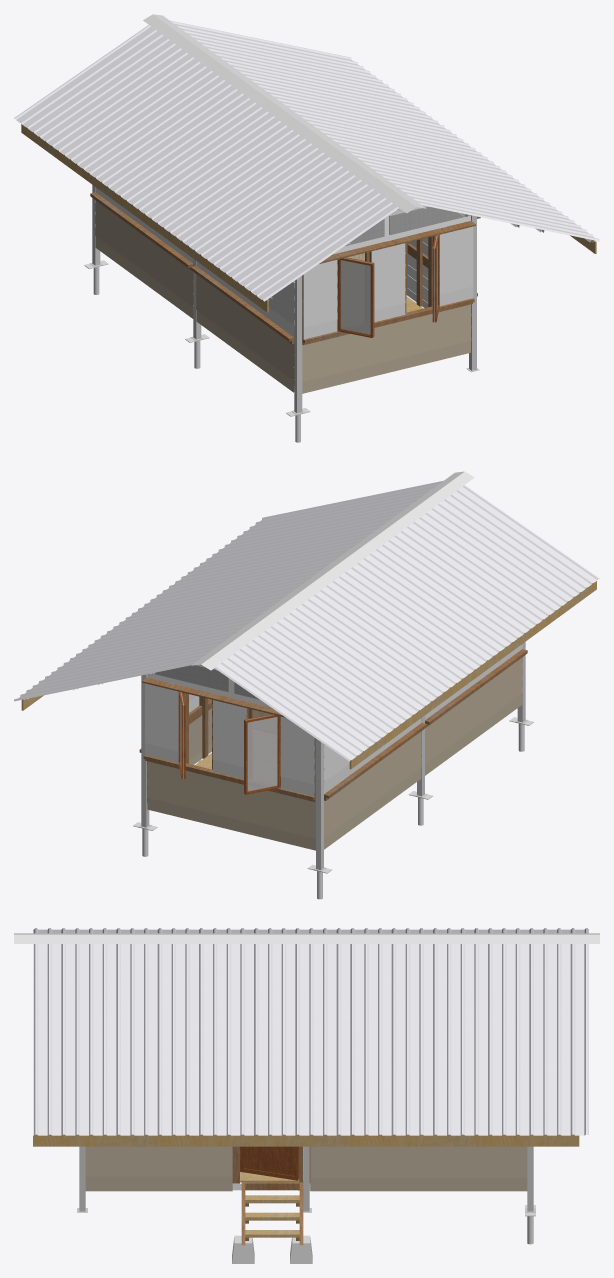
Rendered from 2 Module - Brown (centered).glb.
3 renders of one model, top to bottom at view 1: azimuth 30°, elevation 25°; view 2: azimuth 150°, elevation 25°; view 3: azimuth 270°, elevation 25°, orthographic. The views are drawn at different scales.
Visible parts, largest first — view 1: Geom3D_Component#136.005, Geom3D_Component#136.002, Geom3D_Component#136.008, Geom3D_Component#136, Geom3D_Component#136.001, Geom3D_Component#136.009, Geom3D_Component#136.010, Geom3D_Component#136.004, Geom3D_Component#136.006, Geom3D_Component#136.003, Geom3D_Component#129.002, Geom3D_Component#129.007 (+36 smaller); view 2: Geom3D_Component#136.008, Geom3D_Component#136.002, Geom3D_Component#136.001, Geom3D_Component#136.005, Geom3D_Component#136, Geom3D_Component#136.003, Geom3D_Component#136.010, Geom3D_Component#136.009, Geom3D_Component#136.004, Geom3D_Component#136.006, Geom3D_Component#129, Geom3D_Component#129.007 (+36 smaller); view 3: Geom3D_Component#129.003, Geom3D_Component#129.007, Geom3D_Component#129.002, Geom3D_Component#129.009, Geom3D_Component#129, Geom3D_Component#129.001, Geom3D_Component#129.004, Geom3D_Component#129.008, Geom3D_Component#129.005, Geom3D_Component#129.006, Geom3D_Purlin Cover 1#2.001, Geom3D.846 (+21 smaller).
Part boxes in pixels (x1,y1,x2,y2): Geom3D_Component#136.005: [14, 25, 175, 138]; Geom3D_Component#136.002: [64, 61, 225, 174]; Geom3D_Component#136.008: [188, 152, 349, 265]; Geom3D_Component#136: [139, 116, 299, 228]; Geom3D_Component#136.001: [113, 97, 275, 210]; Geom3D_Component#136.009: [214, 171, 374, 283]; Geom3D_Component#136.010: [237, 190, 399, 301]; Geom3D_Component#136.004: [91, 80, 247, 192]; Geom3D_Component#136.006: [165, 136, 322, 245]; Geom3D_Component#136.003: [41, 44, 197, 154]; Geom3D_Component#129.002: [170, 20, 376, 77]; Geom3D_Component#129.007: [344, 147, 549, 204]; Geom3D_Component#136.008: [388, 521, 549, 634]; Geom3D_Component#136.002: [264, 612, 425, 724]; Geom3D_Component#136.001: [314, 576, 475, 688]; Geom3D_Component#136.005: [214, 649, 374, 761]; Geom3D_Component#136: [340, 557, 499, 669]; Geom3D_Component#136.003: [240, 632, 401, 743]; Geom3D_Component#136.010: [440, 485, 599, 596]; Geom3D_Component#136.009: [415, 503, 574, 614]; Geom3D_Component#136.004: [291, 594, 449, 705]; Geom3D_Component#136.006: [366, 541, 522, 650]; Geom3D_Component#129: [138, 553, 343, 610]; Geom3D_Component#129.007: [187, 517, 393, 574]; Geom3D_Component#129.003: [308, 944, 368, 1135]; Geom3D_Component#129.007: [143, 944, 203, 1135]; Geom3D_Component#129.002: [528, 944, 588, 1135]; Geom3D_Component#129.009: [33, 944, 93, 1135]; Geom3D_Component#129: [253, 944, 313, 1135]; Geom3D_Component#129.001: [473, 944, 533, 1135]; Geom3D_Component#129.004: [418, 944, 478, 1135]; Geom3D_Component#129.008: [88, 944, 145, 1135]; Geom3D_Component#129.005: [364, 944, 423, 1135]; Geom3D_Component#129.006: [199, 944, 255, 1135]; Geom3D_Purlin Cover 1#2.001: [257, 1134, 579, 1146]; Geom3D.846: [310, 1151, 527, 1164].
Bounding box in the file's own units: 5.97 × 3.99 × 8.11.
Materials: 17 (10 with a texture image).
